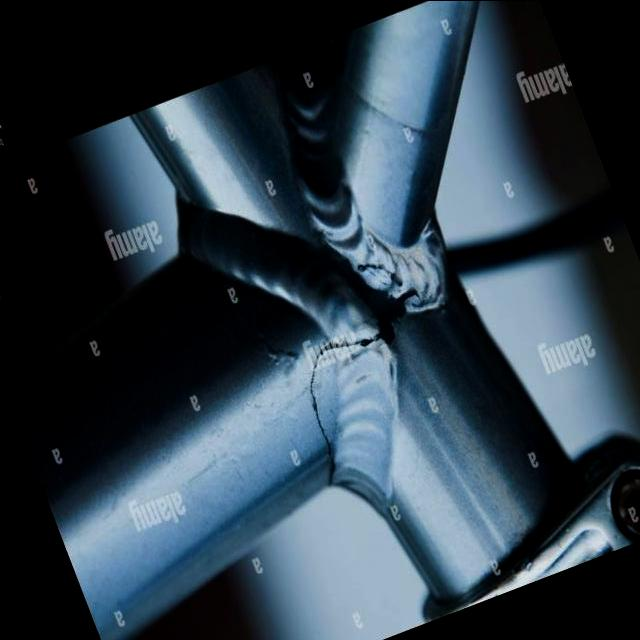defect: (305, 331, 382, 497), (349, 256, 405, 290)
